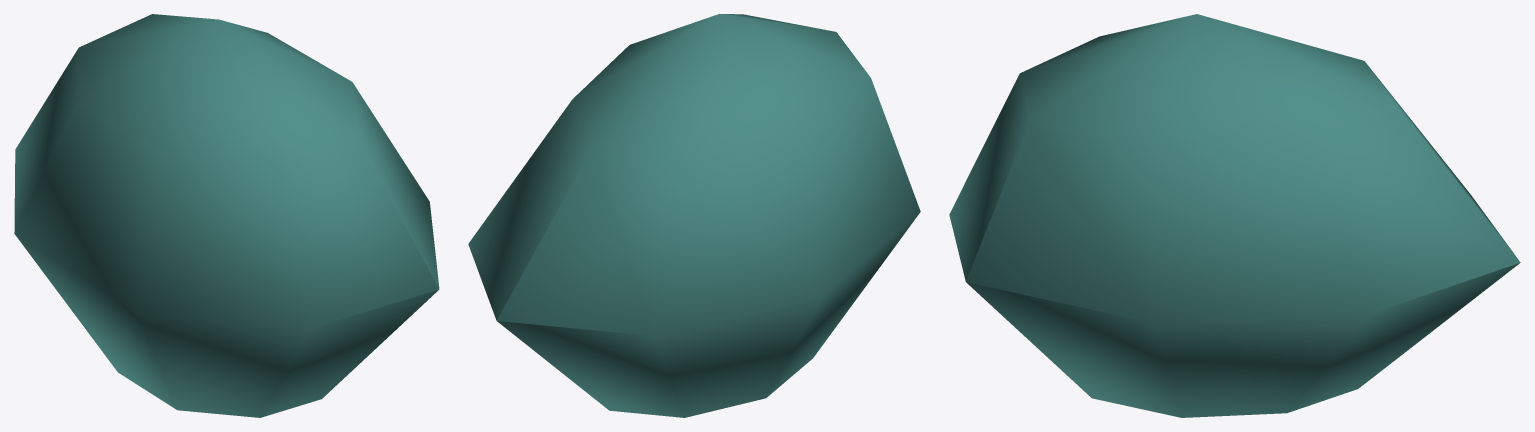
The model's file is food_agave_a.obj.
3 renders of one model, left to right at view 1: azimuth 30°, elevation 25°; view 2: azimuth 150°, elevation 25°; view 3: azimuth 270°, elevation 25°, orthographic. The views are drawn at different scales.
Visible parts, largest first — view 1: food_agave_a; view 2: food_agave_a; view 3: food_agave_a.
Part boxes in pixels (bbox=[...]): food_agave_a: bbox=[14, 14, 439, 417]; food_agave_a: bbox=[468, 14, 920, 417]; food_agave_a: bbox=[949, 14, 1520, 417].
Size of the model in its own units: 0.0916 by 0.09 by 0.1298.
